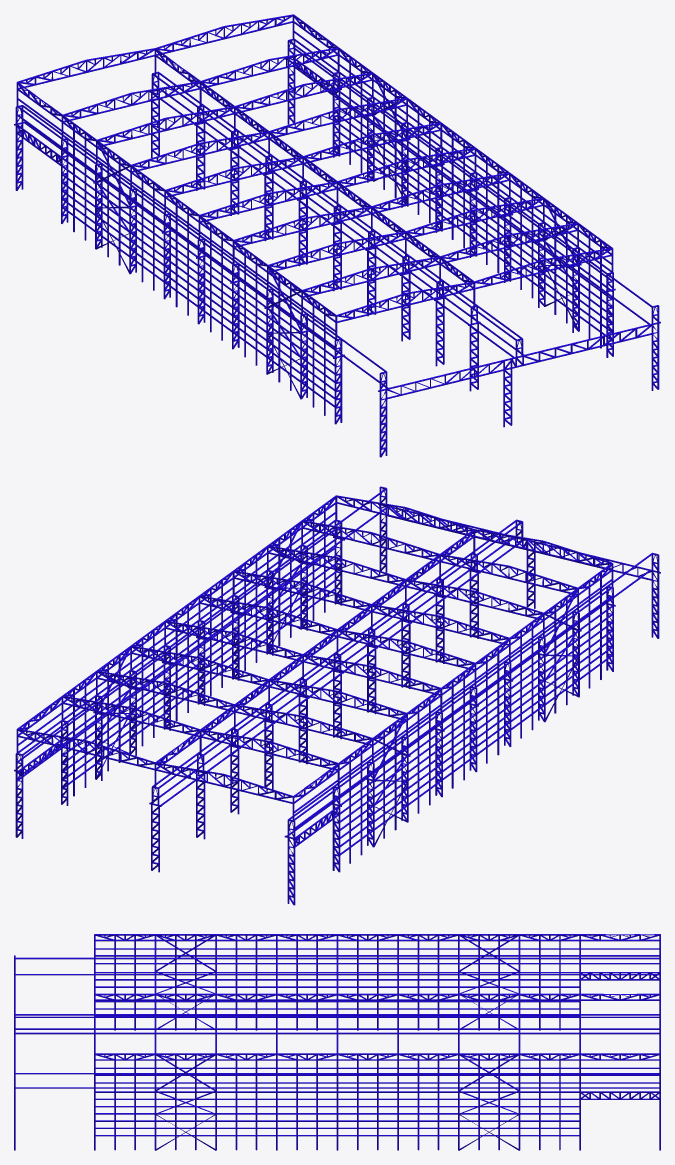
File: modello.glb
3 renders of one model, top to bottom at view 1: azimuth 30°, elevation 25°; view 2: azimuth 150°, elevation 25°; view 3: azimuth 270°, elevation 25°, orthographic. The views are drawn at different scales.
Parts seen in each view (by area): view 1: BL|A$C6e1b312e_curve_.264; view 2: BL|A$C6e1b312e_curve_.264; view 3: BL|A$C6e1b312e_curve_.264.
Boxes of the visible parts, bbox=[...] form: BL|A$C6e1b312e_curve_.264: bbox=[14, 14, 660, 457]; BL|A$C6e1b312e_curve_.264: bbox=[14, 486, 660, 905]; BL|A$C6e1b312e_curve_.264: bbox=[14, 934, 660, 1150].
Size of the model in its own units: 86.65 by 33.66 by 194.
